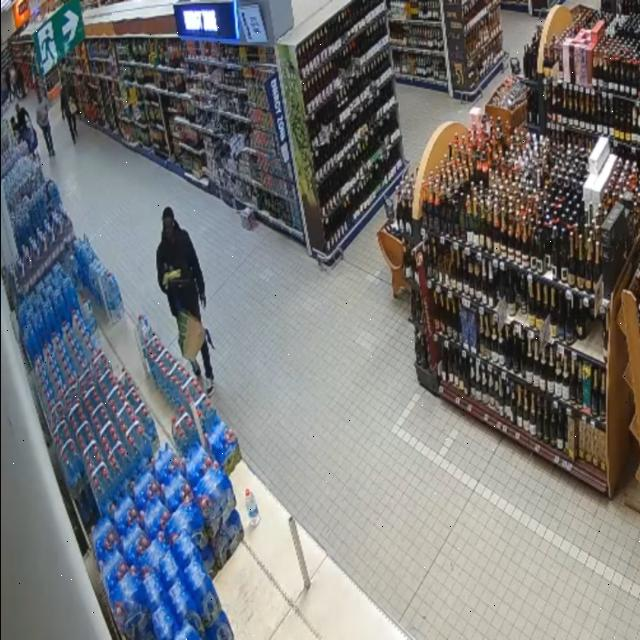article: (162, 268, 181, 286)
bags: (178, 310, 205, 360), (70, 98, 78, 114)
hands: (200, 293, 206, 308)
person: (157, 207, 205, 320), (36, 92, 55, 156), (61, 83, 77, 143)
